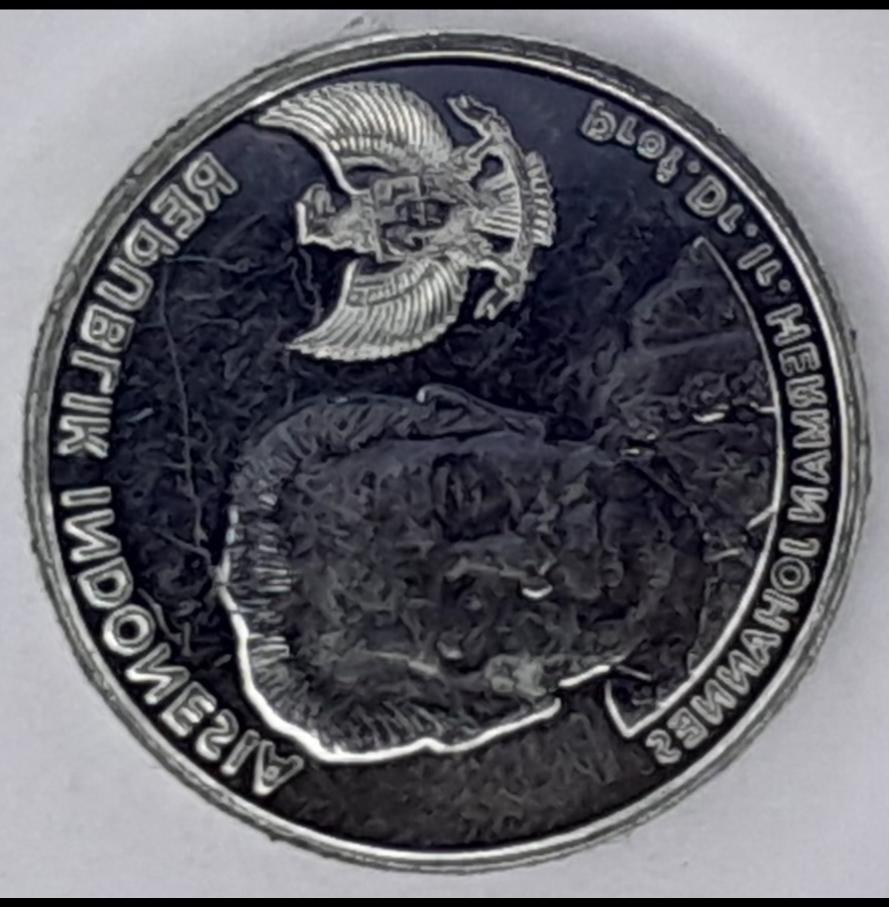coin_100_e2016: (19, 24, 871, 876)
